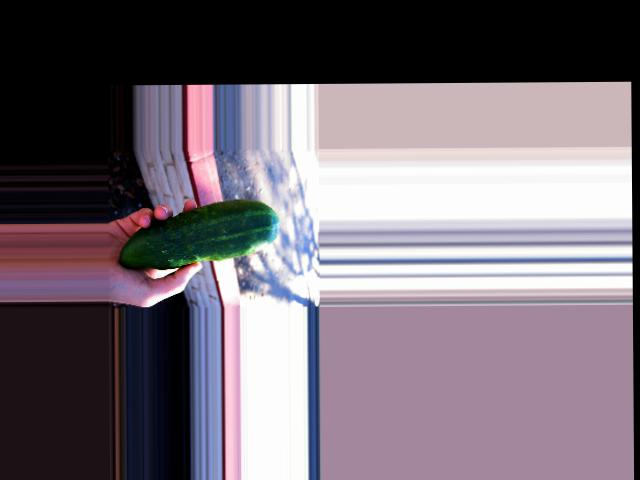cucumber: (119, 198, 278, 269)
